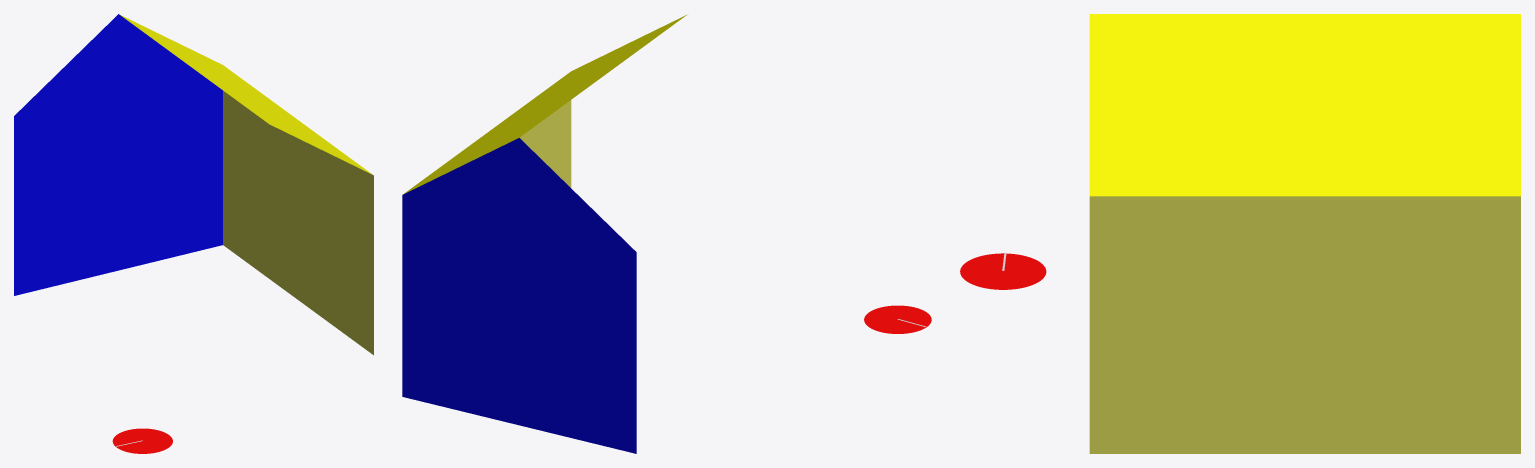
The model's file is result.glb.
The picture shows the model from 3 angles, left to right: view 1: azimuth 30°, elevation 25°; view 2: azimuth 150°, elevation 25°; view 3: azimuth 270°, elevation 25°; orthographic projection. The views are drawn at different scales.
Parts seen in each view (by area): view 1: 382470c2-1352-4b86-aba2-5941ccdba754__undefined, c9846393-f940-452c-a034-509e17a4cfd9__undefined, 42a987af-0e3a-4541-9006-4075e5646508__undefined, 8b7e6fc0-9208-4bba-bbda-775c0f4c06ec__Circle; view 2: 382470c2-1352-4b86-aba2-5941ccdba754__undefined, 42a987af-0e3a-4541-9006-4075e5646508__undefined, c9846393-f940-452c-a034-509e17a4cfd9__undefined, 8b7e6fc0-9208-4bba-bbda-775c0f4c06ec__Circle; view 3: c9846393-f940-452c-a034-509e17a4cfd9__undefined, 42a987af-0e3a-4541-9006-4075e5646508__undefined, 8b7e6fc0-9208-4bba-bbda-775c0f4c06ec__Circle.
Boxes of the visible parts, <box> form: 382470c2-1352-4b86-aba2-5941ccdba754__undefined: <box>14,14,222,295</box>; c9846393-f940-452c-a034-509e17a4cfd9__undefined: <box>223,90,373,355</box>; 42a987af-0e3a-4541-9006-4075e5646508__undefined: <box>119,14,372,174</box>; 8b7e6fc0-9208-4bba-bbda-775c0f4c06ec__Circle: <box>112,428,172,453</box>; 382470c2-1352-4b86-aba2-5941ccdba754__undefined: <box>402,138,636,453</box>; 42a987af-0e3a-4541-9006-4075e5646508__undefined: <box>403,14,687,194</box>; c9846393-f940-452c-a034-509e17a4cfd9__undefined: <box>519,100,571,187</box>; 8b7e6fc0-9208-4bba-bbda-775c0f4c06ec__Circle: <box>864,305,931,333</box>; c9846393-f940-452c-a034-509e17a4cfd9__undefined: <box>1089,196,1520,453</box>; 42a987af-0e3a-4541-9006-4075e5646508__undefined: <box>1089,14,1520,196</box>; 8b7e6fc0-9208-4bba-bbda-775c0f4c06ec__Circle: <box>960,253,1046,289</box>.
Bounding box in the file's own units: 550 × 469 × 650.
